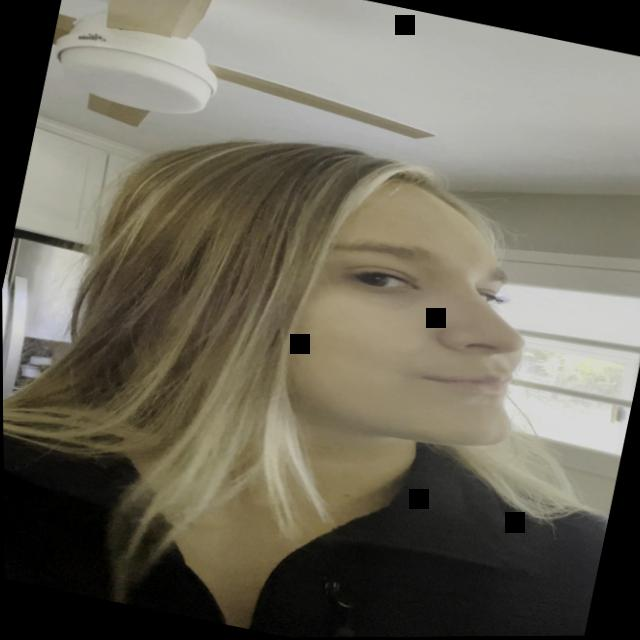NO-Mask: (217, 142, 551, 488)
